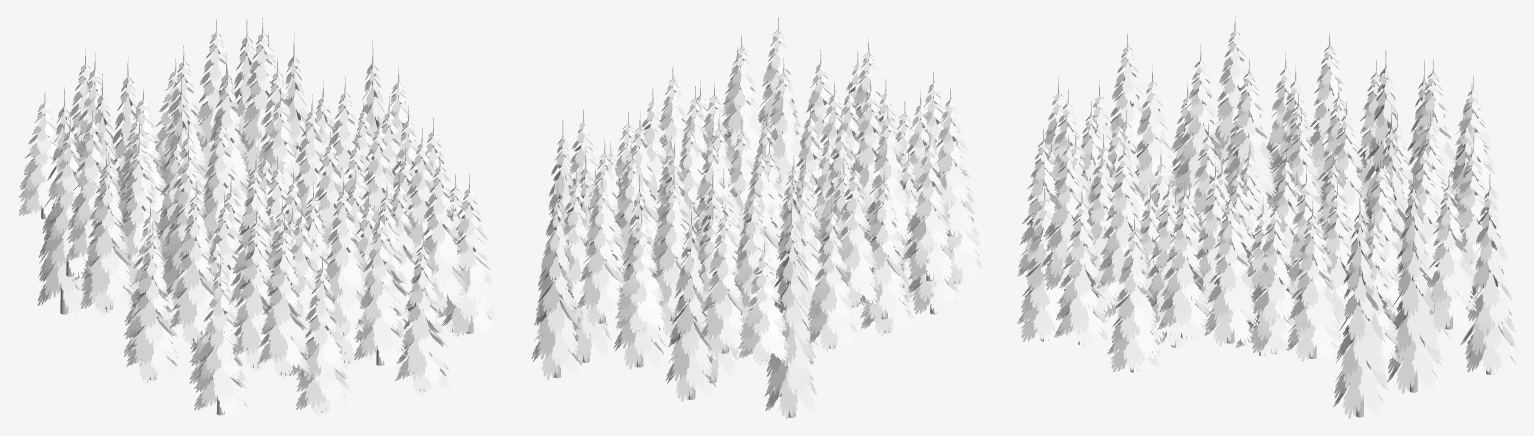
Rendered from Environment_2.fbx.
3 views of the same model, side by side, from view 1: azimuth 30°, elevation 25°; view 2: azimuth 150°, elevation 25°; view 3: azimuth 270°, elevation 25° (orthographic). The views are drawn at different scales.
Parts seen in each view (by area): view 1: autumnPine__15_, autumnPine__16_, autumnPine__8_, winterPine__10_, springPine__11_, springPine__17_, winterPine__15_, springPine__12_, autumnPine__9_, springPine__28_, springPine__15_, winterPine__1_ (+58 smaller); view 2: autumnPine__22_, autumnPine__23_, autumnPine__24_, winterPine__17_, springPine__11_, springPine__25_, springPine__26_, winterPine__3_, winterPine__21_, winterPine__22_, springPine__14_, springPine__12_ (+54 smaller); view 3: autumnPine__20_, autumnPine__21_, autumnPine__23_, winterPine__13_, winterPine__7_, winterPine__8_, autumnPine__9_, winterPine__23_, autumnPine__2_, springPine__8_, autumnPine__8_, springPine__5_ (+54 smaller).
Part boxes in pixels (left/top/right/bottom): autumnPine__15_: left=296, top=252, right=349, bottom=417; autumnPine__16_: left=194, top=254, right=248, bottom=418; autumnPine__8_: left=395, top=232, right=448, bottom=395; winterPine__10_: left=126, top=221, right=178, bottom=383; springPine__11_: left=82, top=151, right=135, bottom=312; springPine__17_: left=257, top=215, right=309, bottom=378; winterPine__15_: left=354, top=206, right=406, bottom=368; springPine__12_: left=169, top=182, right=216, bottom=344; autumnPine__9_: left=441, top=174, right=495, bottom=336; springPine__28_: left=324, top=173, right=367, bottom=338; springPine__15_: left=420, top=151, right=466, bottom=315; winterPine__1_: left=232, top=207, right=276, bottom=371; autumnPine__22_: left=764, top=203, right=817, bottom=419; autumnPine__23_: left=531, top=185, right=583, bottom=379; autumnPine__24_: left=665, top=205, right=717, bottom=401; winterPine__17_: left=807, top=197, right=856, bottom=351; springPine__11_: left=902, top=130, right=954, bottom=282; springPine__25_: left=577, top=172, right=624, bottom=325; springPine__26_: left=700, top=203, right=747, bottom=355; winterPine__3_: left=859, top=167, right=910, bottom=322; winterPine__21_: left=615, top=211, right=666, bottom=335; winterPine__22_: left=738, top=242, right=789, bottom=365; springPine__14_: left=836, top=155, right=880, bottom=309; springPine__12_: left=934, top=86, right=974, bottom=236; autumnPine__20_: left=1333, top=191, right=1388, bottom=418; autumnPine__21_: left=1387, top=167, right=1442, bottom=393; autumnPine__23_: left=1460, top=173, right=1516, bottom=374; winterPine__13_: left=1286, top=200, right=1340, bottom=361; winterPine__7_: left=1204, top=187, right=1258, bottom=346; winterPine__8_: left=1107, top=214, right=1161, bottom=376; autumnPine__9_: left=1054, top=187, right=1108, bottom=349; winterPine__23_: left=1427, top=170, right=1476, bottom=332; autumnPine__2_: left=1249, top=195, right=1299, bottom=356; springPine__8_: left=1158, top=182, right=1210, bottom=341; autumnPine__8_: left=1017, top=183, right=1070, bottom=345; springPine__5_: left=1097, top=138, right=1148, bottom=298.
Bounding box in the file's own units: 19031 × 12095 × 22129.
Materials: 1 (1 with a texture image).
